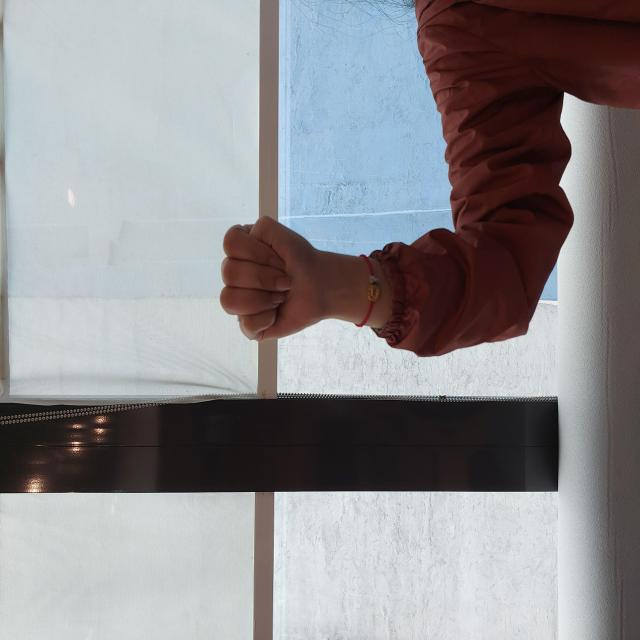M: (299, 216, 431, 323)
